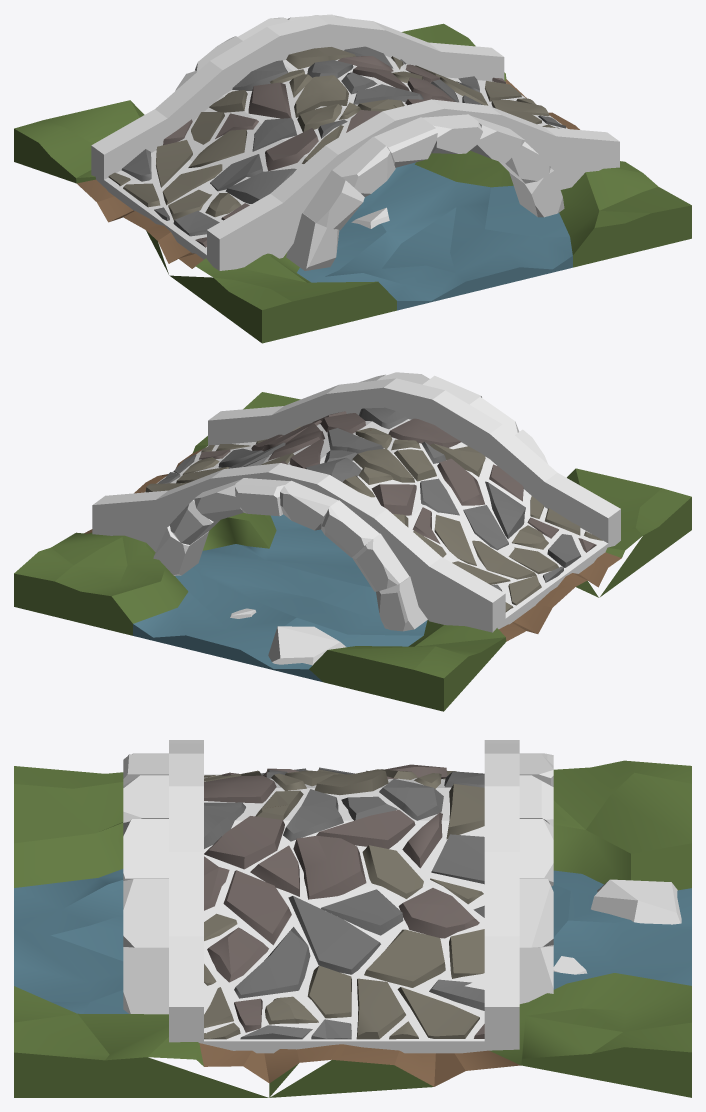
Rendered from Bridge_H.fbx.
The picture shows the model from 3 angles, top to bottom: view 1: azimuth 30°, elevation 25°; view 2: azimuth 150°, elevation 25°; view 3: azimuth 270°, elevation 25°; orthographic projection. The views are drawn at different scales.
Visible parts, largest first — view 1: Bridge_H.001; view 2: Bridge_H.001; view 3: Bridge_H.001.
Boxes of the visible parts, x1,y1,x2,y2 form: Bridge_H.001: [14, 14, 691, 343]; Bridge_H.001: [14, 372, 691, 711]; Bridge_H.001: [14, 740, 691, 1097].
Bounding box in the file's own units: 147 × 44.02 × 147.
